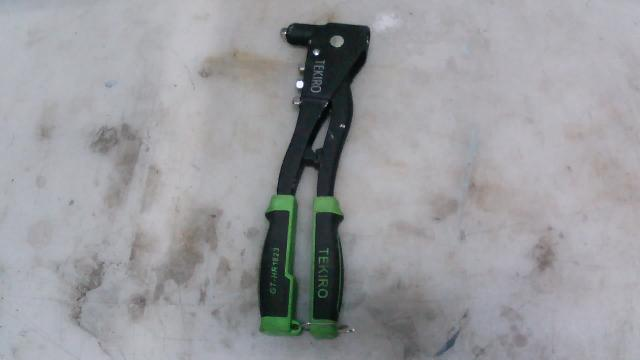tang_rivet: (249, 7, 419, 357)
